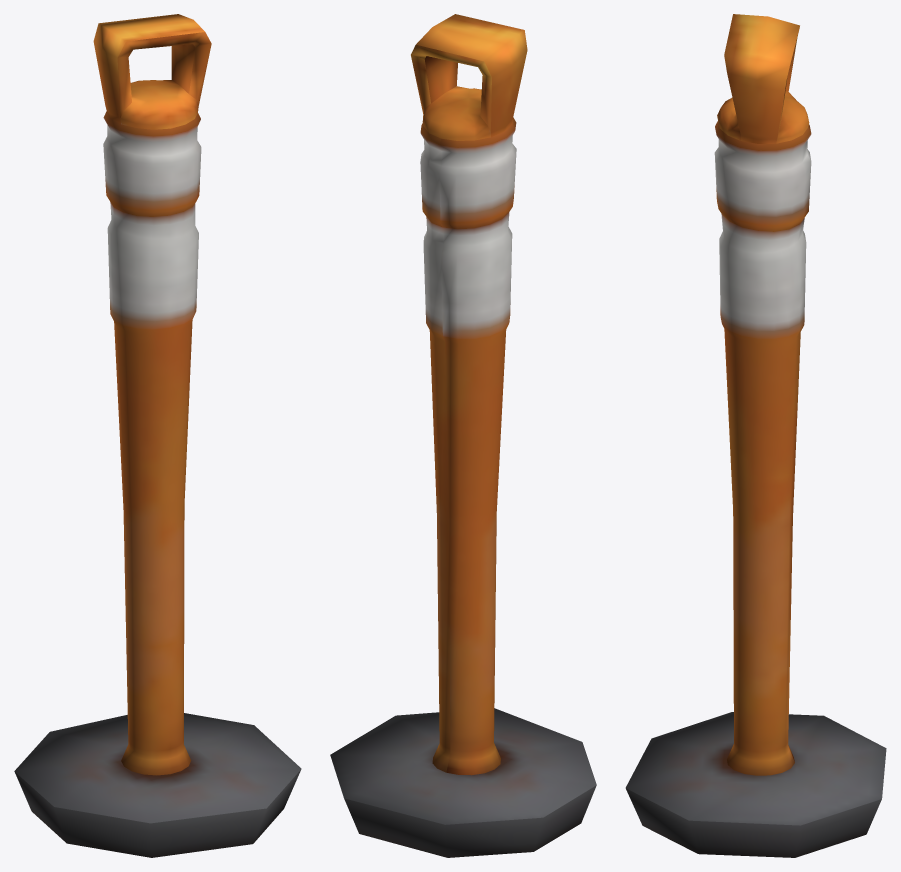
Rendered from nc_prop_delineator_02.fbx.
The picture shows the model from 3 angles, left to right: view 1: azimuth 30°, elevation 25°; view 2: azimuth 150°, elevation 25°; view 3: azimuth 270°, elevation 25°; orthographic projection. The views are drawn at different scales.
Visible parts, largest first — view 1: nc_prop_delineator_02_LOD0; view 2: nc_prop_delineator_02_LOD0; view 3: nc_prop_delineator_02_LOD0.
Boxes of the visible parts, left/top/right/bottom form: nc_prop_delineator_02_LOD0: left=14, top=14, right=301, bottom=857; nc_prop_delineator_02_LOD0: left=330, top=14, right=596, bottom=857; nc_prop_delineator_02_LOD0: left=625, top=14, right=886, bottom=857.
Size of what is drawn, in the model's own units: 0.3675 by 1.18 by 0.3606.
Materials: 1 (1 with a texture image).
